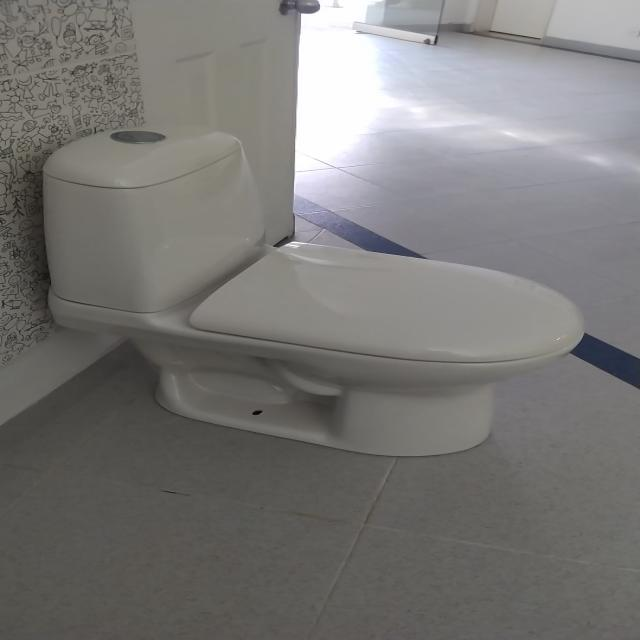toilet: (36, 120, 590, 462)
